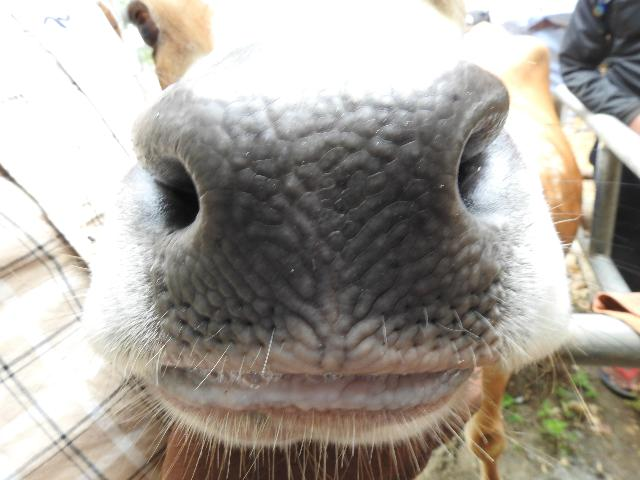Muzzle: (203, 89, 435, 373)
